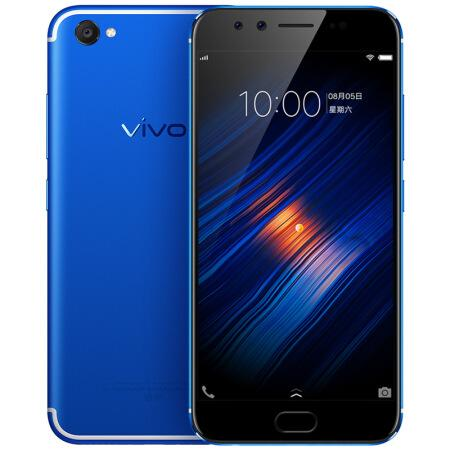phone: (196, 15, 402, 440), (50, 5, 195, 440)
